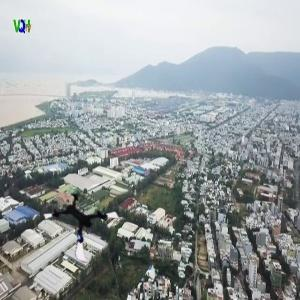drone: (52, 188, 122, 258)
